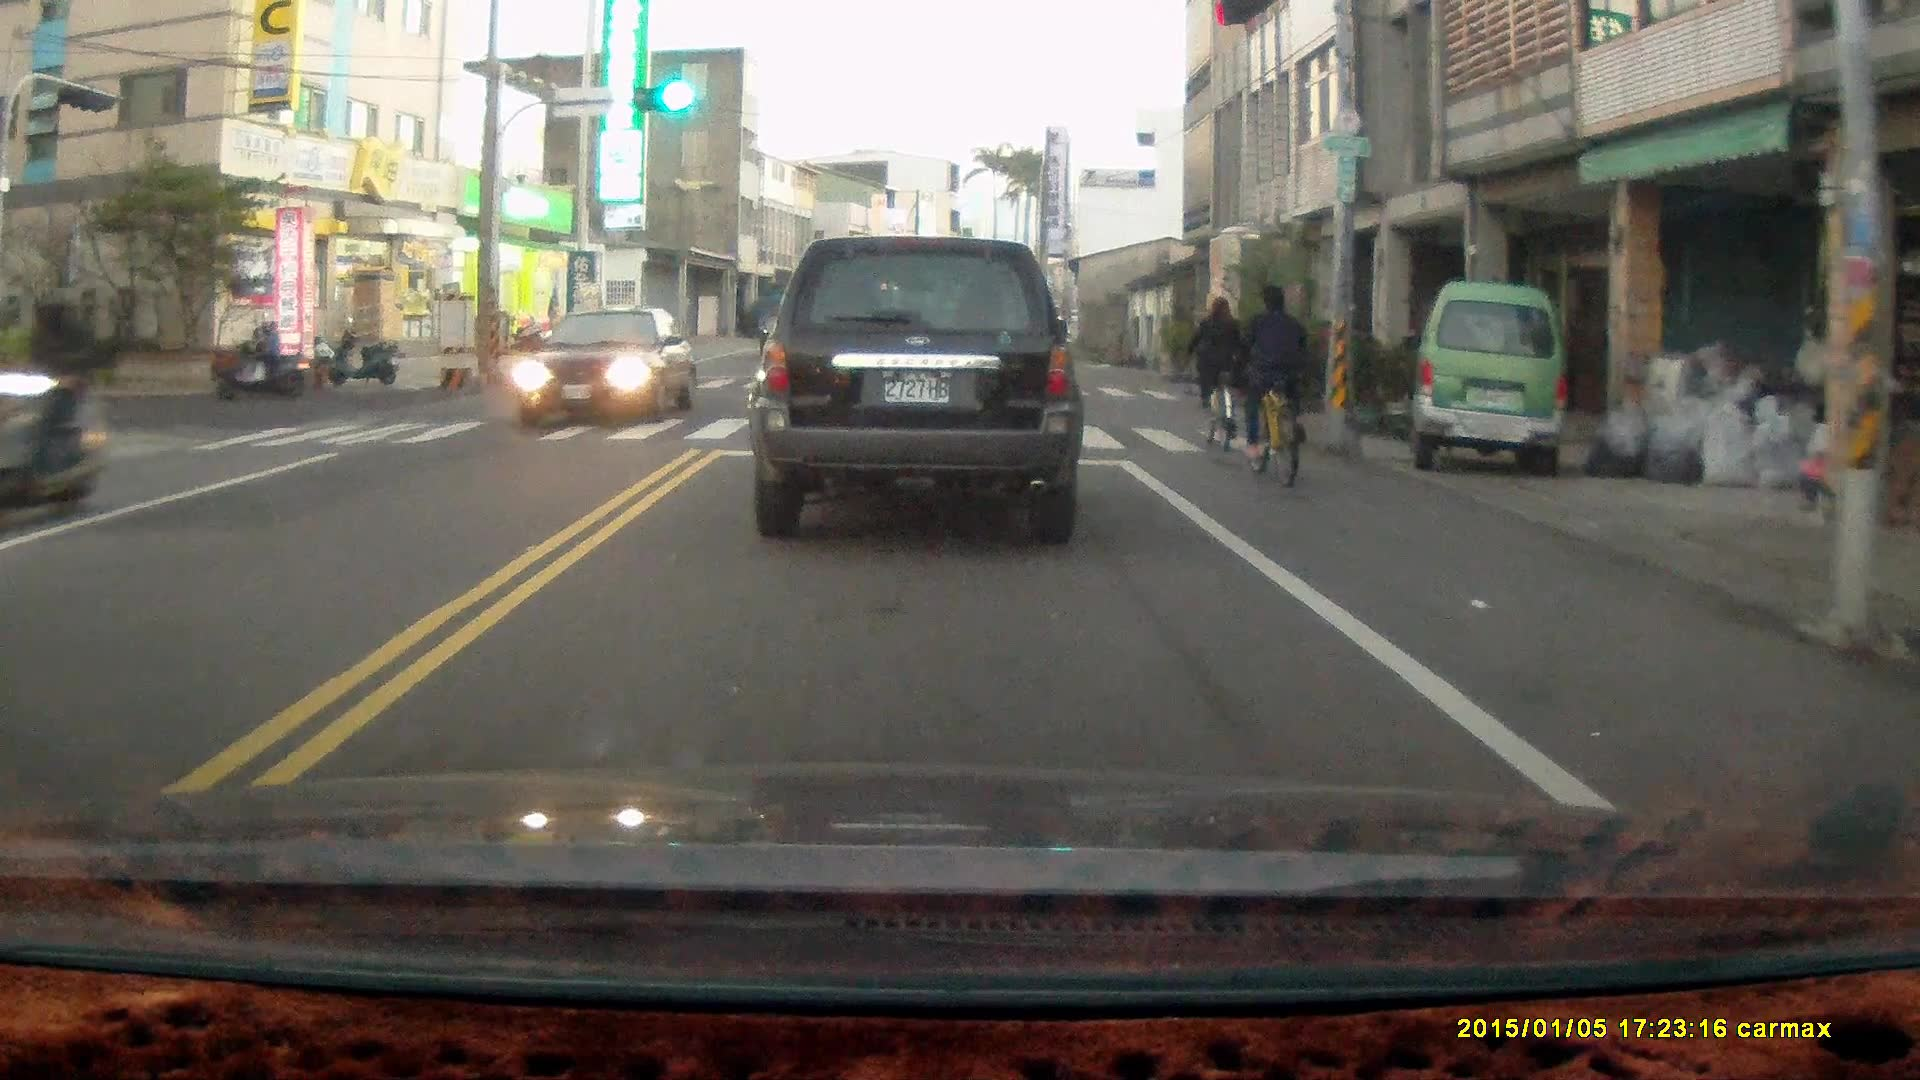rider: (0, 280, 109, 536), (1229, 277, 1312, 484), (1182, 295, 1244, 448), (214, 308, 306, 396)
vehicle: (748, 233, 1084, 549), (1411, 282, 1572, 482), (516, 302, 702, 427)
